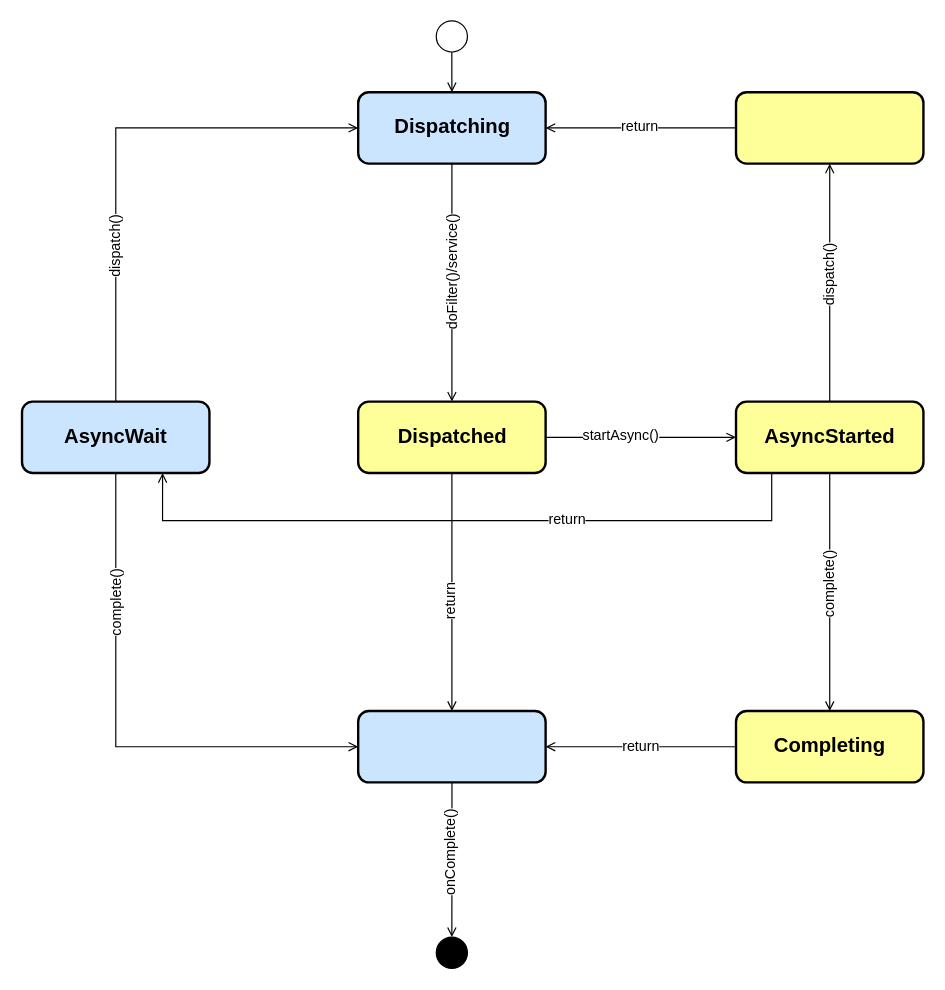
Some shapes in this 945 by 990 pixel diagram are drawn without their labels. The centre of each missing label's shape, as x and y in pixels:
"Completed" goes at [451,746].
"Redispatching" goes at [829,127].
